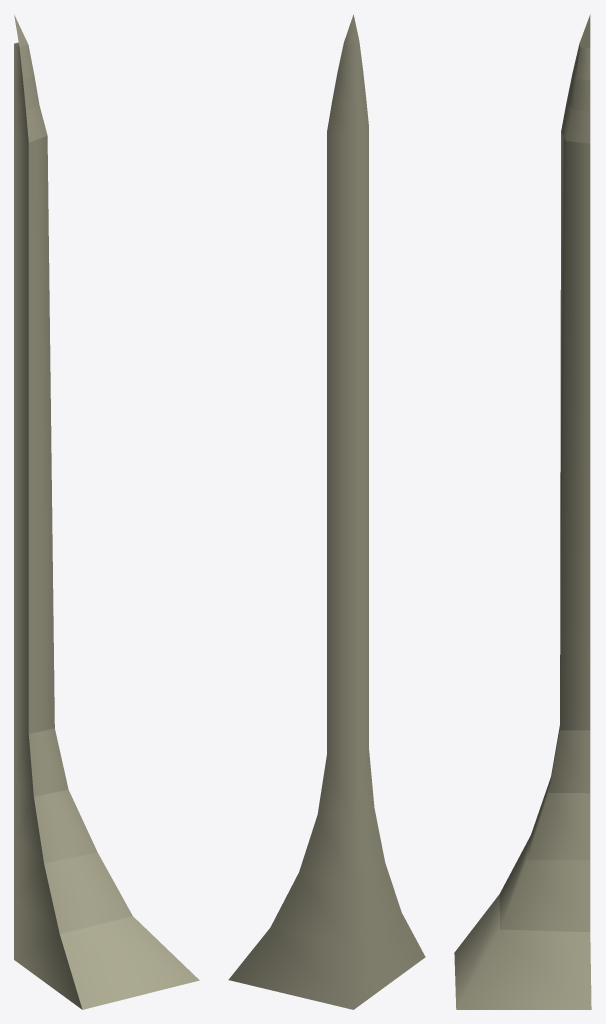
Rendered from WallCornerPiece.fbx.
The picture shows the model from 3 angles, left to right: view 1: azimuth 30°, elevation 25°; view 2: azimuth 150°, elevation 25°; view 3: azimuth 270°, elevation 25°; orthographic projection. The views are drawn at different scales.
Visible parts, largest first — view 1: CornerWallPiece; view 2: CornerWallPiece; view 3: CornerWallPiece.
Part boxes in pixels (box(x1,y1,x2,y2)): CornerWallPiece: box(14, 15, 199, 1009); CornerWallPiece: box(228, 14, 425, 1009); CornerWallPiece: box(454, 14, 591, 1009).
Size of the model in its own units: 4.84 by 36.98 by 4.9.
